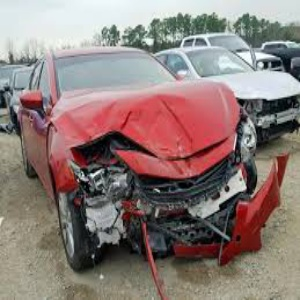bonnet: (60, 88, 241, 157)
bumper: (79, 175, 265, 259)
